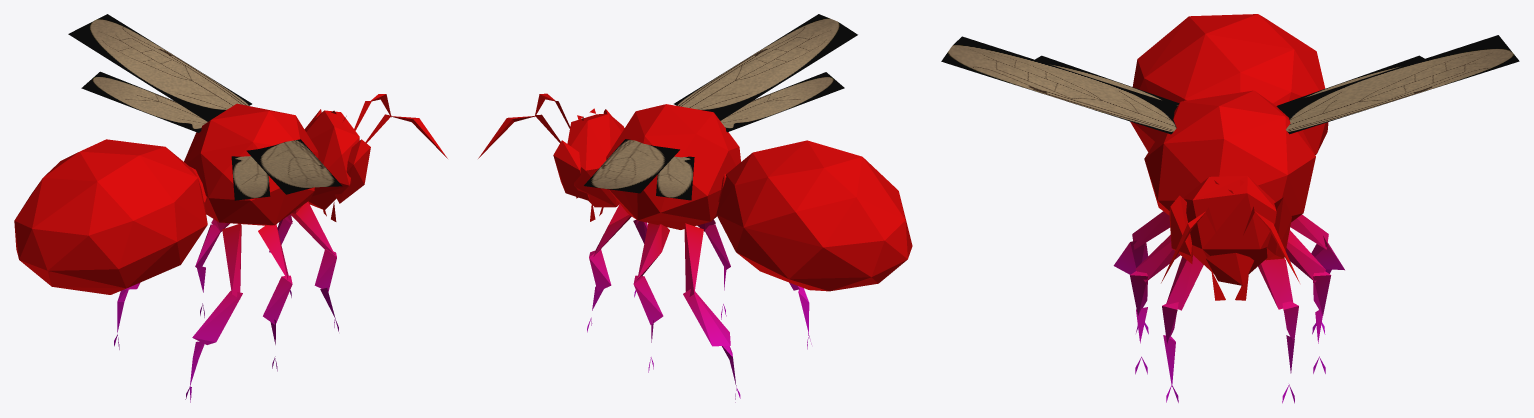
File: SM_Bumblebee_Fly_LOD3.fbx
3 views of the same model, side by side, from view 1: azimuth 30°, elevation 25°; view 2: azimuth 150°, elevation 25°; view 3: azimuth 270°, elevation 25° (orthographic). The views are drawn at different scales.
Parts seen in each view (by area): view 1: SM_Bumblebee_Fly_LOD3; view 2: SM_Bumblebee_Fly_LOD3; view 3: SM_Bumblebee_Fly_LOD3.
Boxes of the visible parts, <box> form: SM_Bumblebee_Fly_LOD3: <box>14,14,447,402</box>; SM_Bumblebee_Fly_LOD3: <box>478,14,912,402</box>; SM_Bumblebee_Fly_LOD3: <box>941,14,1519,403</box>.
Size of the model in its own units: 3.01 by 1.86 by 3.06.
